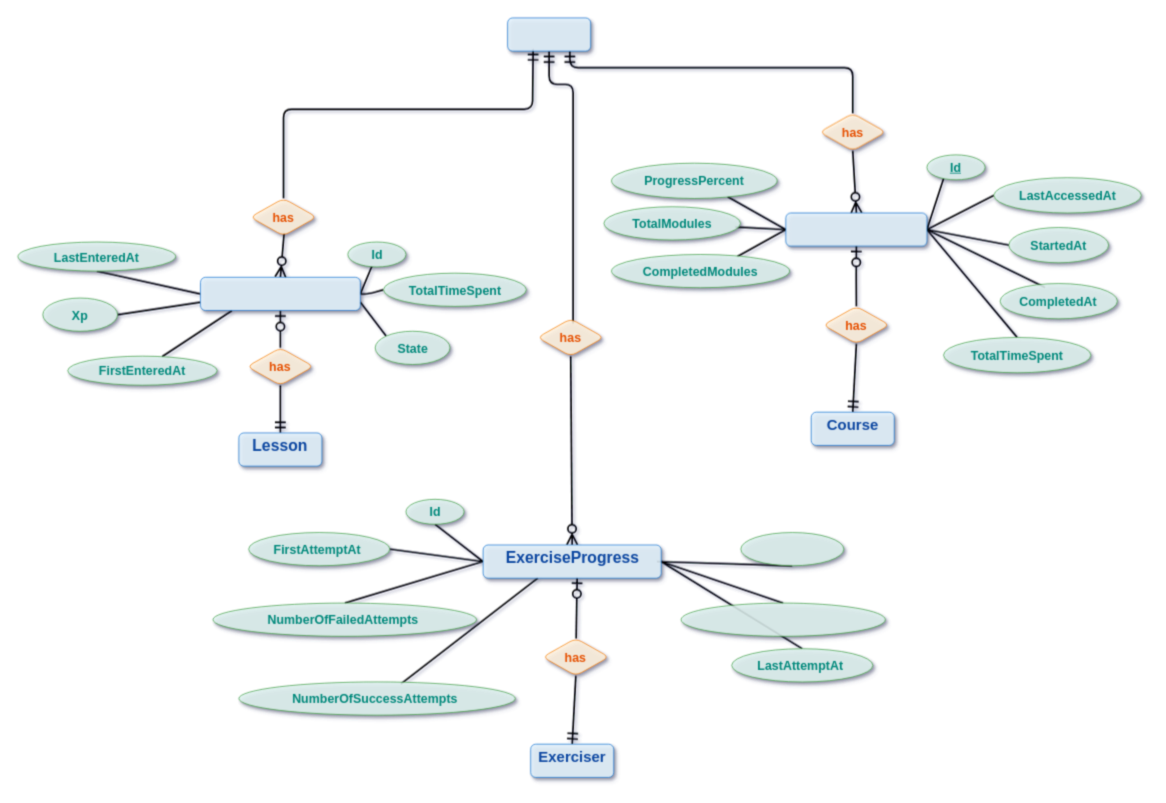
Some shapes in this 1166 by 803 pixel diagram are drawn without their labels. The centre of each missing label's shape, as x and y in pixels:
CourseProgress: the point at 857,230
LessonProgress: the point at 280,294
NumberOfAttempts: the point at 783,620
TotalXP: the point at 793,549
User: the point at 549,35
